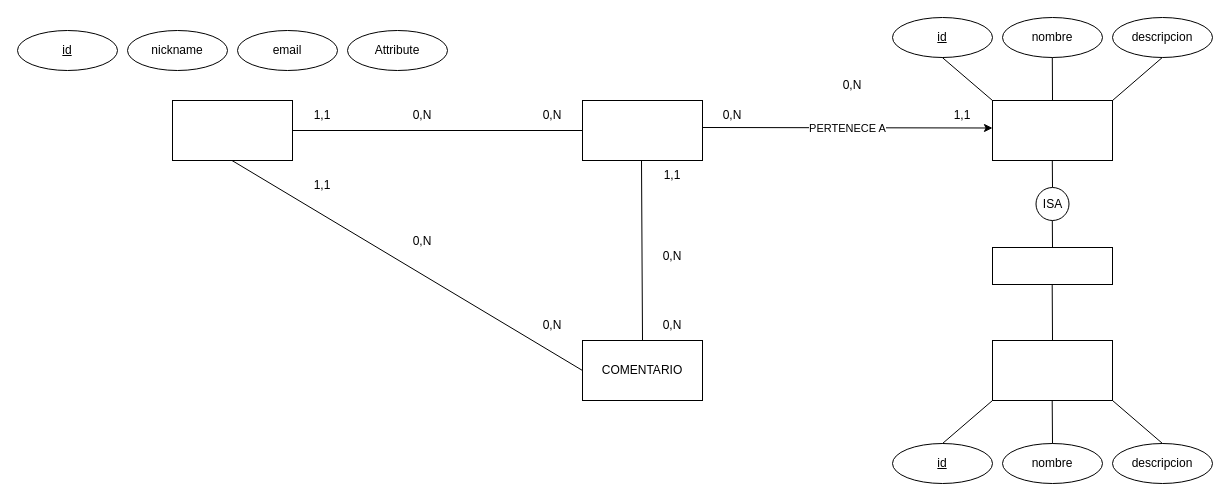
Image size: 1230x501. Some labels were removed from this diagram. Each missing label, with the centre of its shape:
APORTES: the point at 1052,265
CATEGORIA: the point at 1052,130
POST: the point at 642,130
SUBCATEGORIA: the point at 1052,370
USUARIO: the point at 232,130
